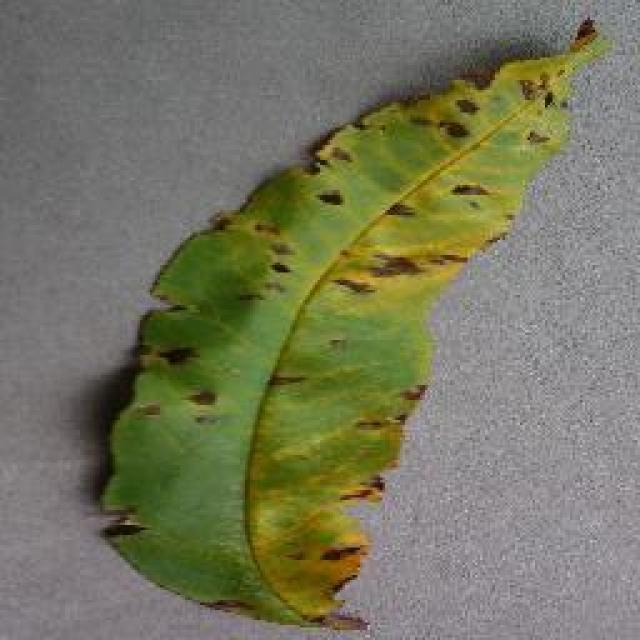Peach_Bacterial_Spot: (204, 148, 488, 598)
